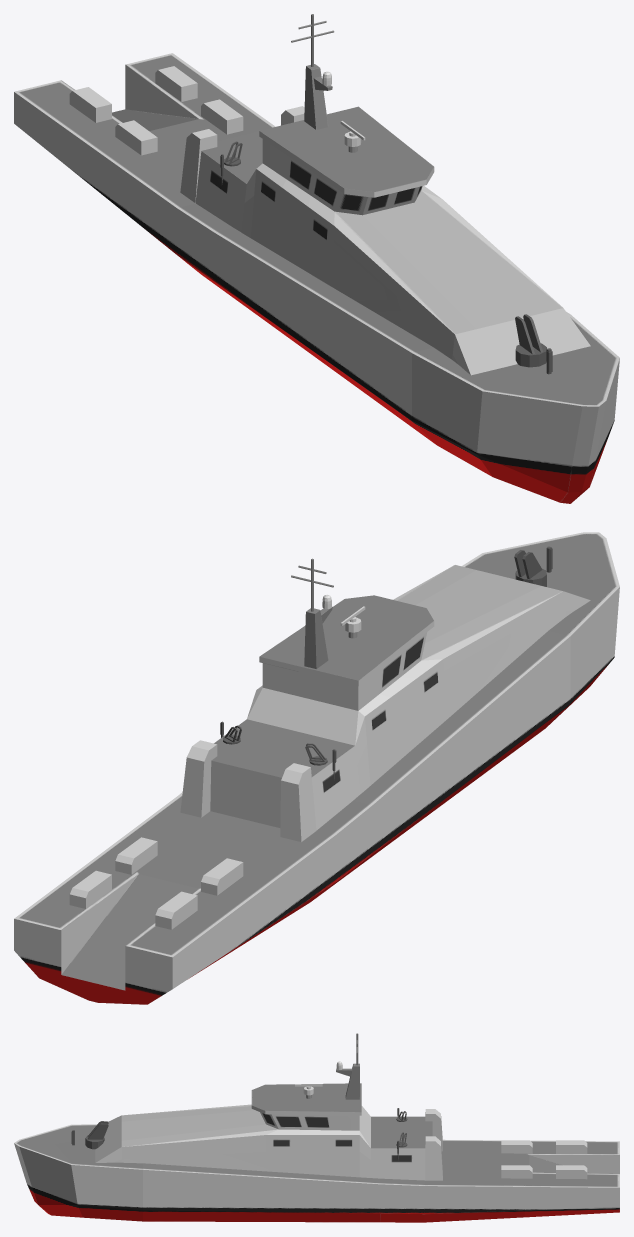
Rendered from S7_klein.fbx.
3 views of the same model, one above another, from view 1: azimuth 30°, elevation 25°; view 2: azimuth 150°, elevation 25°; view 3: azimuth 270°, elevation 25° (orthographic). The views are drawn at different scales.
Visible parts, largest first — view 1: Cube.001, Cube.002; view 2: Cube.001; view 3: Cube.001.
Boxes of the visible parts, left/top/right/bottom form: Cube.001: left=14, top=14, right=619, bottom=503; Cube.002: left=515, top=314, right=542, bottom=354; Cube.001: left=14, top=532, right=619, bottom=1004; Cube.001: left=14, top=1033, right=619, bottom=1222.
Bounding box in the file's own units: 0.0324 × 0.06 × 0.179.
4 materials, 1 textured.
